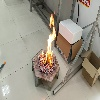fire: (40, 10, 56, 70)
